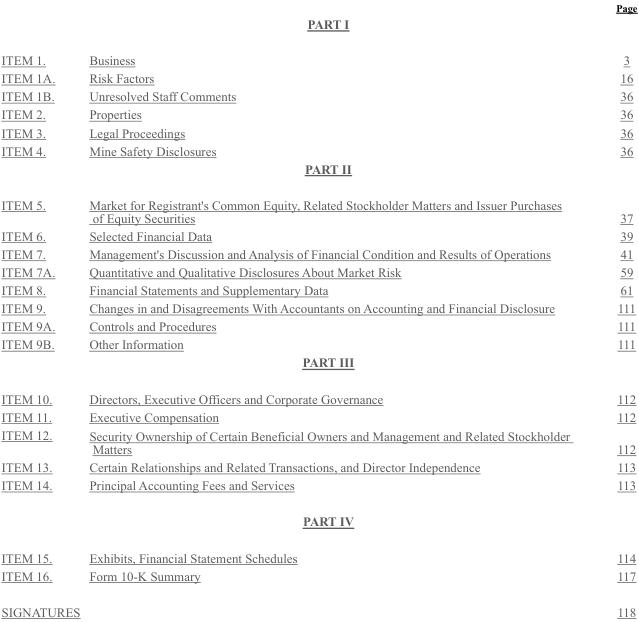table: (0, 1, 636, 618)
table column: (83, 1, 592, 618), (0, 1, 83, 618), (592, 1, 636, 618)
table column header: (0, 1, 636, 14)
table projected row header: (0, 502, 636, 539), (0, 14, 636, 41), (0, 159, 636, 186), (0, 353, 636, 380)
table row: (0, 186, 636, 226), (0, 502, 636, 539), (0, 425, 636, 457), (0, 14, 636, 41), (0, 41, 636, 68), (0, 159, 636, 186), (0, 353, 636, 380), (0, 380, 636, 407), (0, 475, 636, 502), (0, 539, 636, 566), (0, 566, 636, 593), (0, 593, 636, 618), (0, 86, 636, 105), (0, 316, 636, 335), (0, 68, 636, 86), (0, 105, 636, 123), (0, 123, 636, 141), (0, 141, 636, 159), (0, 226, 636, 244), (0, 244, 636, 262), (0, 262, 636, 280), (0, 280, 636, 298), (0, 298, 636, 316), (0, 335, 636, 353), (0, 407, 636, 425), (0, 457, 636, 475), (0, 1, 636, 14)
